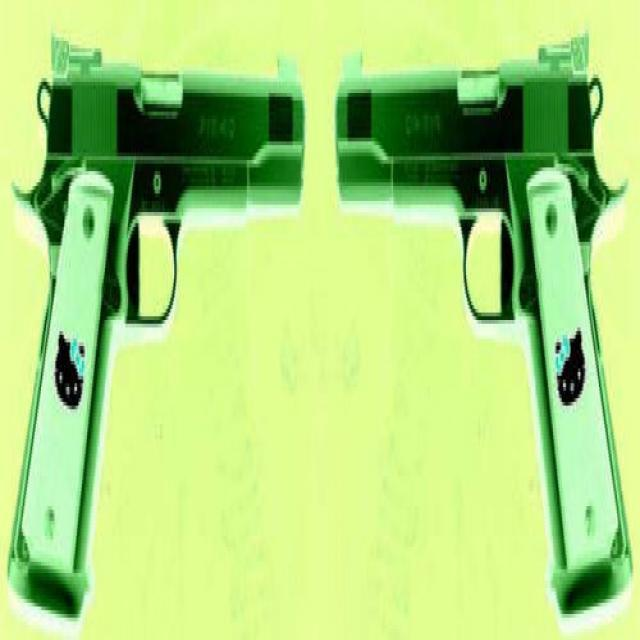weapon: (6, 23, 306, 622), (335, 26, 631, 610)
